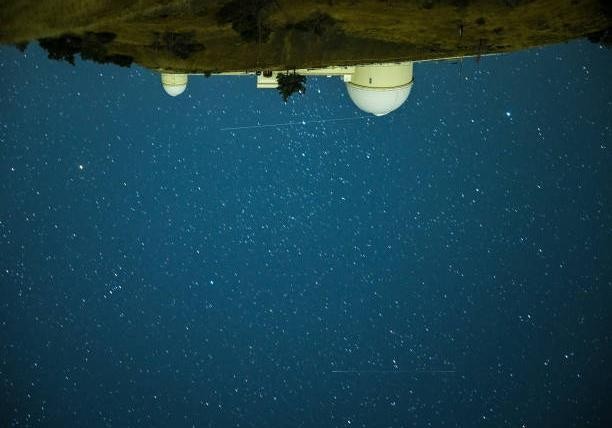meteorite: (214, 110, 370, 141), (325, 367, 464, 376)
